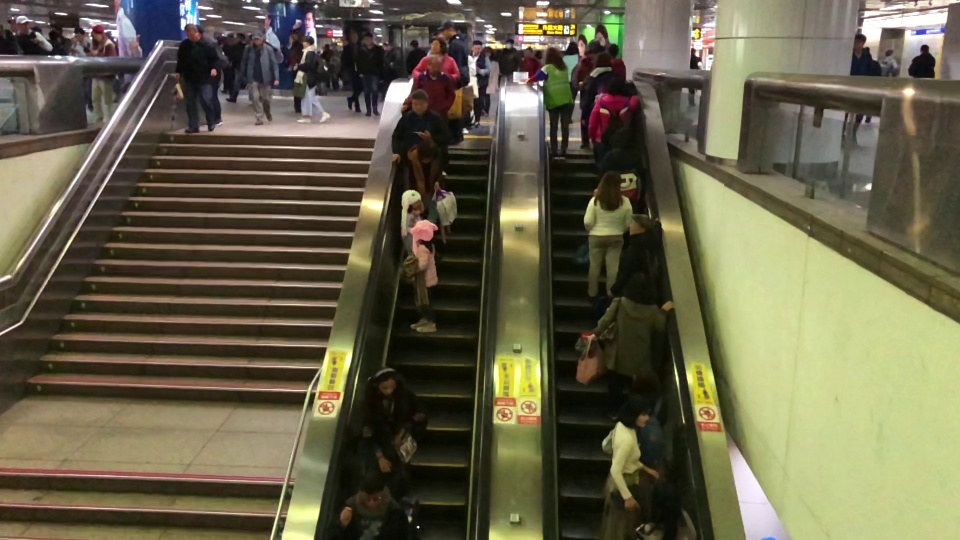person_head: (648, 480, 681, 519), (358, 473, 385, 511), (619, 397, 650, 428), (625, 273, 655, 303), (633, 370, 661, 395), (610, 127, 633, 150), (600, 169, 621, 192), (410, 89, 430, 113), (377, 369, 396, 394), (415, 221, 435, 243), (417, 140, 436, 163), (629, 214, 650, 234), (604, 76, 627, 94), (426, 58, 440, 80), (430, 34, 447, 52), (183, 23, 200, 39), (544, 47, 561, 63), (586, 38, 603, 53), (595, 53, 610, 67), (408, 197, 422, 211), (18, 17, 31, 32), (442, 22, 455, 37), (74, 26, 86, 42), (251, 31, 264, 45), (566, 41, 579, 55), (854, 33, 867, 47), (92, 26, 104, 41), (301, 35, 314, 47), (472, 39, 483, 53), (362, 33, 372, 47), (349, 30, 358, 43), (608, 43, 617, 56), (409, 39, 419, 48), (292, 30, 301, 39), (504, 39, 513, 48), (919, 43, 928, 52), (524, 46, 532, 56), (885, 47, 894, 55), (691, 46, 695, 55)
person_vbox: (589, 273, 675, 419), (593, 396, 659, 540), (400, 58, 456, 177), (583, 169, 633, 298), (366, 369, 426, 472), (524, 47, 574, 160), (327, 473, 409, 540), (172, 23, 216, 134), (586, 75, 640, 163), (389, 89, 449, 166), (607, 214, 662, 298), (631, 371, 669, 483), (239, 31, 281, 124), (634, 479, 697, 540), (407, 221, 441, 332), (841, 32, 873, 149), (571, 38, 604, 150), (600, 127, 649, 200), (83, 25, 118, 123), (295, 35, 332, 123), (403, 140, 445, 206), (357, 33, 384, 118), (412, 34, 459, 81), (338, 28, 362, 112), (578, 53, 611, 113), (442, 22, 471, 87), (471, 39, 490, 128), (17, 17, 54, 56), (399, 195, 422, 253), (565, 41, 580, 123), (288, 29, 302, 112), (906, 42, 935, 78), (687, 45, 702, 104), (405, 38, 426, 75), (498, 39, 518, 75), (607, 42, 626, 78), (878, 47, 899, 77), (521, 47, 540, 73)
